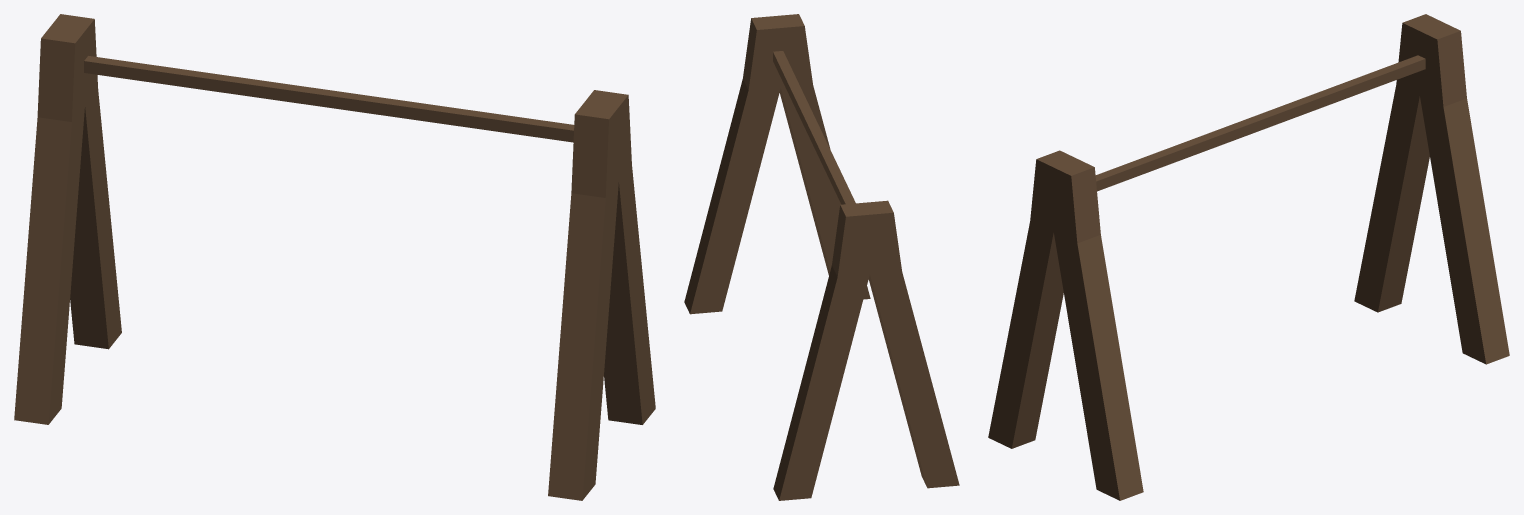
The model's file is Mueble_Tendedero.fbx.
The picture shows the model from 3 angles, left to right: view 1: azimuth 30°, elevation 25°; view 2: azimuth 150°, elevation 25°; view 3: azimuth 270°, elevation 25°; orthographic projection. The views are drawn at different scales.
Parts seen in each view (by area): view 1: Tendedero; view 2: Tendedero; view 3: Tendedero.
Boxes of the visible parts, box(x1,y1,x2,y2) form: Tendedero: box(14, 14, 655, 500); Tendedero: box(684, 14, 959, 500); Tendedero: box(988, 14, 1509, 500).
Size of the model in its own units: 105 by 71.13 by 111.
